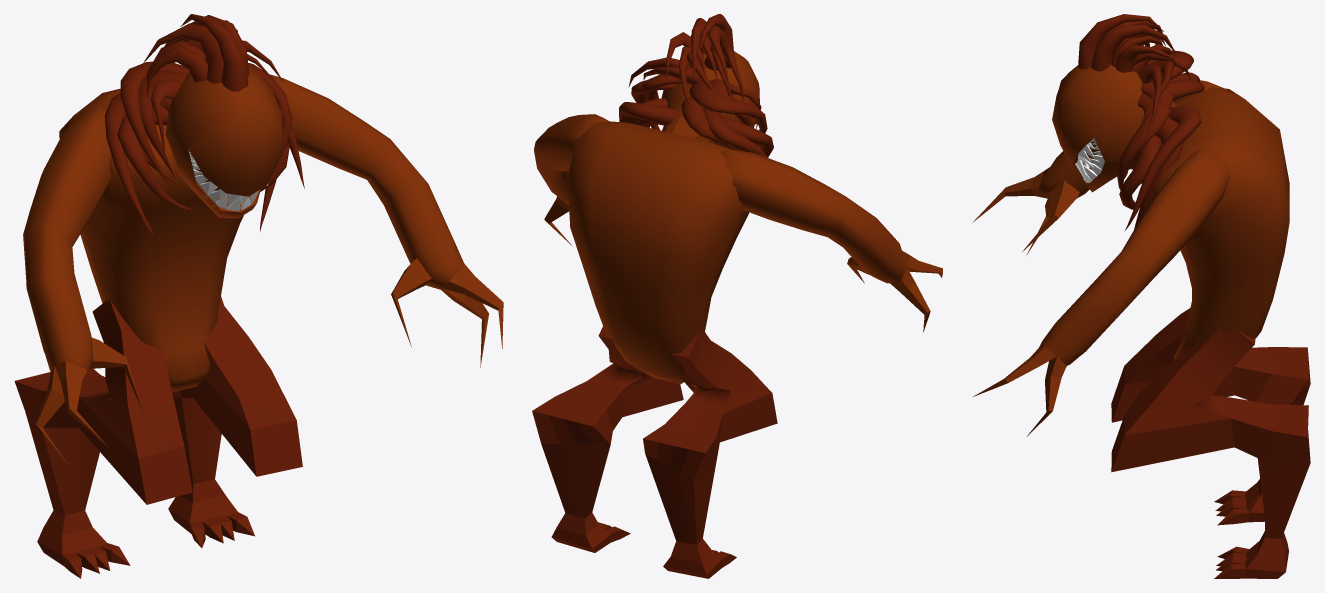
File: tridi.fbx
3 renders of one model, left to right at view 1: azimuth 30°, elevation 25°; view 2: azimuth 150°, elevation 25°; view 3: azimuth 270°, elevation 25°, orthographic. The views are drawn at different scales.
Visible parts, largest first — view 1: Box005, Box001, Box006, Box004, Box002, Cylinder001, Sphere001, Box035; view 2: Box001, Box005, Box004, Box006, Cylinder001, Box002, Sphere001; view 3: Box004, Box001, Box002, Cylinder001, Box005, Sphere001, Box006, Box035.
Part boxes in pixels (box(x1,y1,x2,y2)): Box005: box(14, 300, 192, 578); Box001: box(59, 88, 243, 391); Box006: box(23, 107, 143, 465); Box004: box(168, 296, 302, 547); Box002: box(269, 74, 503, 367); Cylinder001: box(104, 14, 304, 238); Sphere001: box(165, 68, 283, 218); Box035: box(188, 150, 268, 211); Box001: box(567, 121, 749, 384); Box005: box(643, 328, 777, 578); Box004: box(532, 326, 683, 552); Box006: box(721, 149, 942, 332); Cylinder001: box(619, 14, 773, 157); Box002: box(534, 114, 608, 246); Sphere001: box(661, 51, 759, 149); Box004: box(1111, 328, 1310, 578); Box001: box(1141, 87, 1289, 359); Box002: box(973, 149, 1230, 436); Cylinder001: box(1078, 14, 1204, 231); Box005: box(1111, 308, 1310, 525); Sphere001: box(1052, 64, 1177, 192); Box006: box(972, 80, 1226, 255); Box035: box(1075, 138, 1104, 182).
Size of the model in its own units: 114 by 139 by 81.57.
